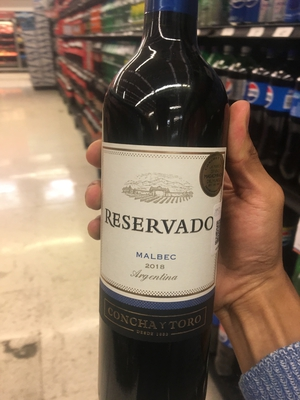reservado malbec: (101, 7, 220, 400)
